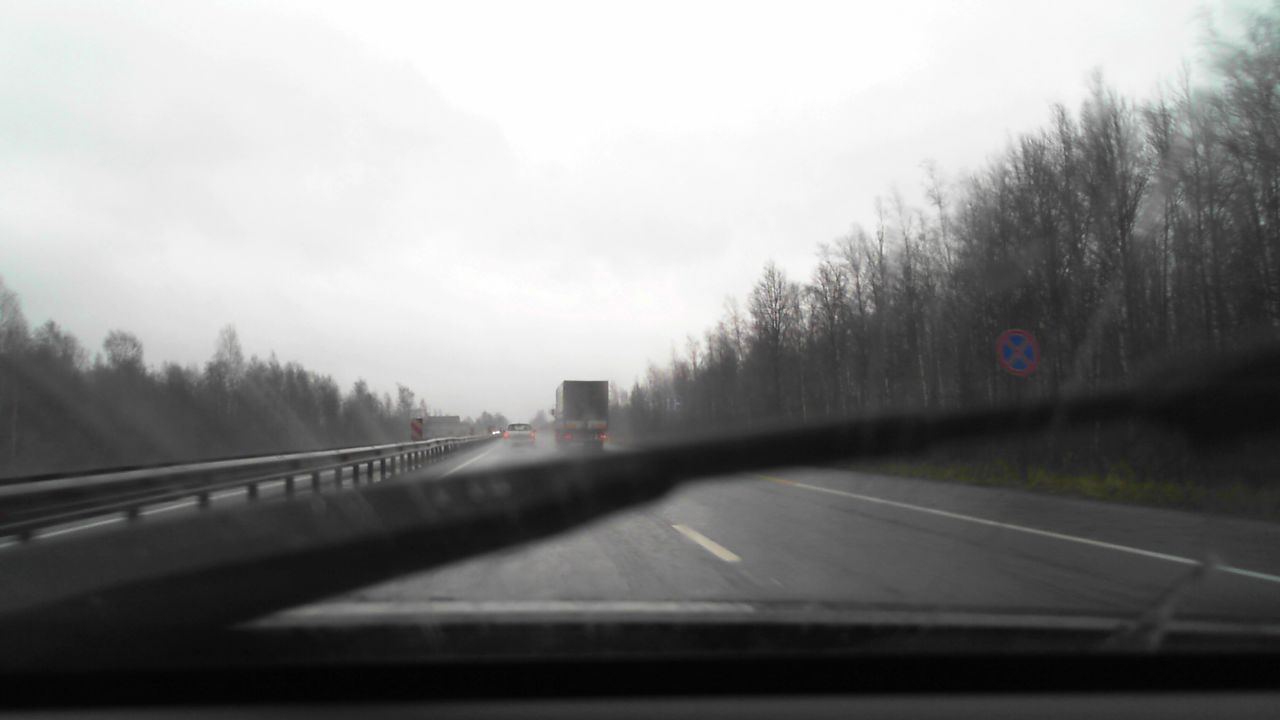No Parking: (996, 328, 1040, 375)
